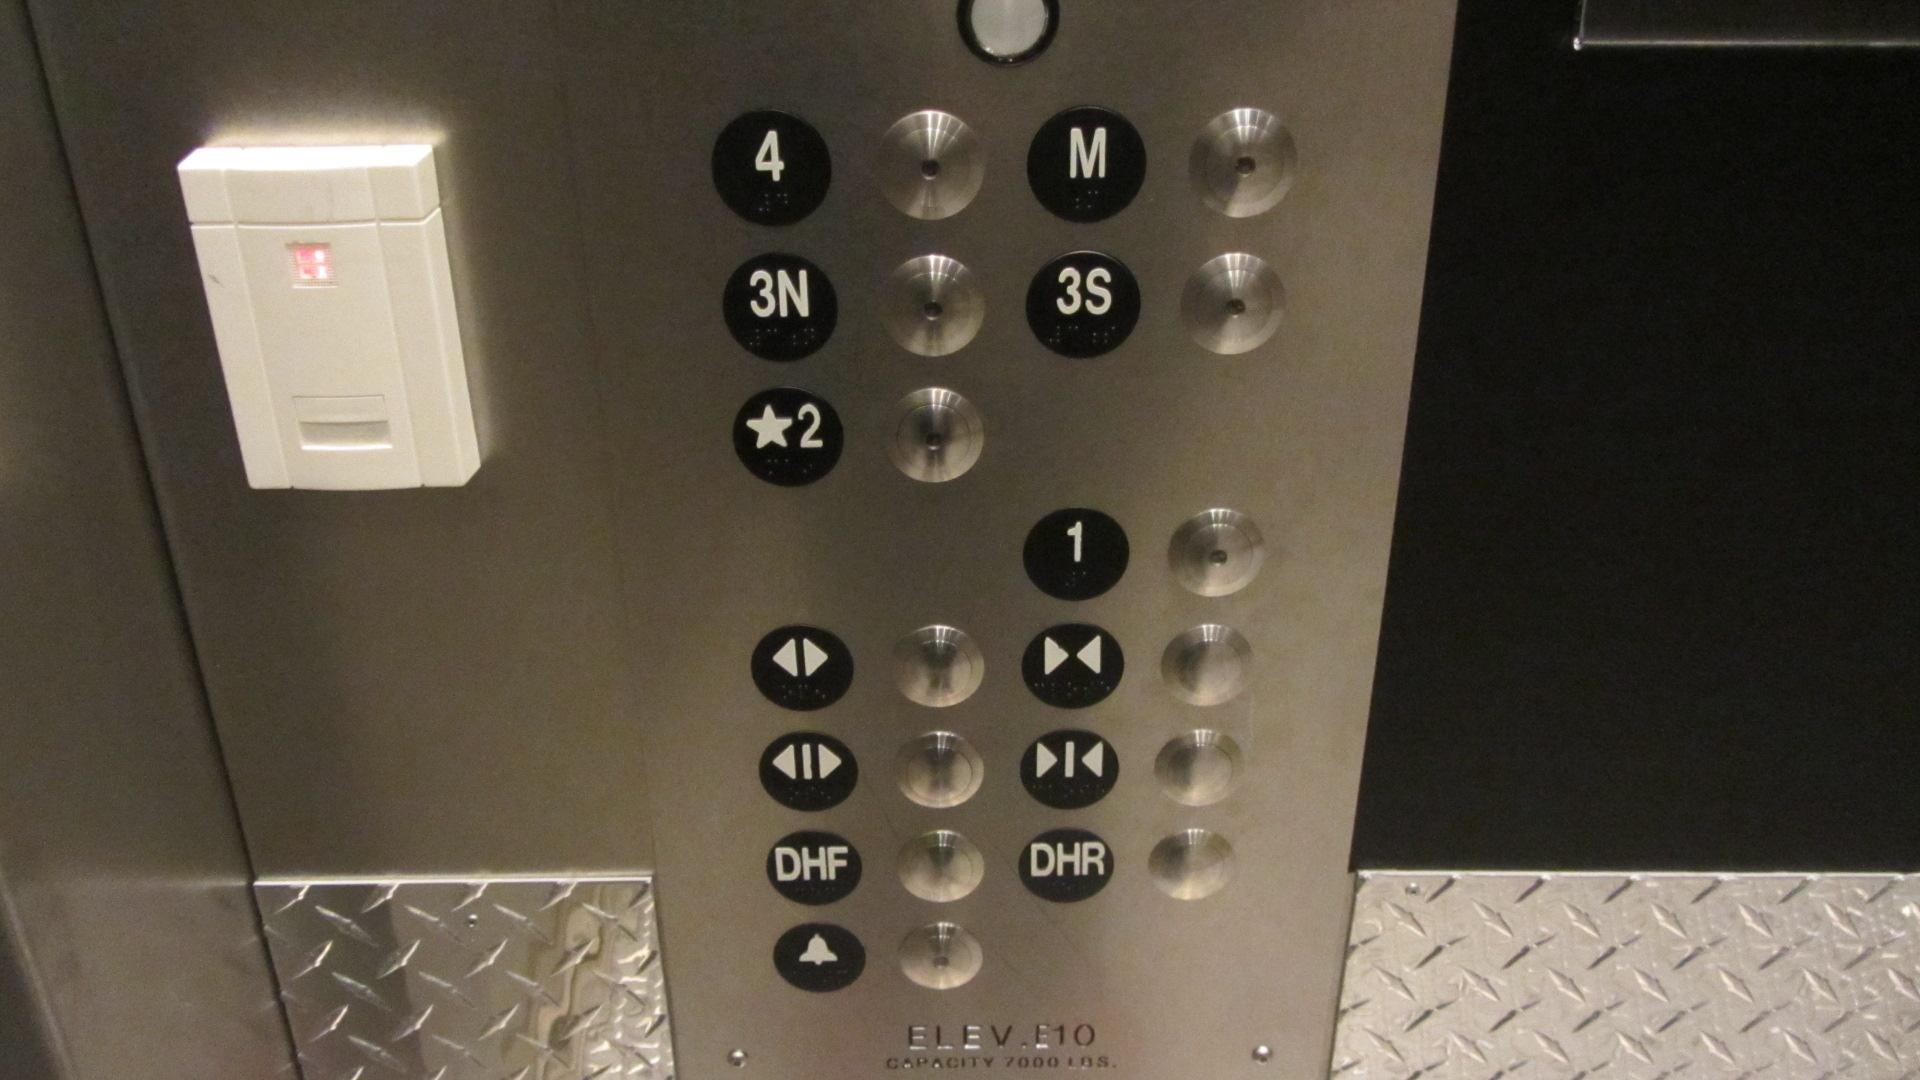1: (1017, 500, 1131, 605)
3N: (717, 247, 843, 365)
3S: (1023, 247, 1147, 364)
4: (704, 103, 836, 229)
DHF: (762, 823, 866, 909)
DHR: (1014, 822, 1120, 907)
M: (1021, 100, 1153, 225)
alarm: (767, 913, 872, 1000)
close: (1015, 613, 1129, 715), (1014, 723, 1124, 814)
empty: (861, 105, 989, 225), (1185, 102, 1302, 222), (872, 251, 992, 363), (880, 378, 992, 489), (1180, 249, 1291, 357), (886, 618, 988, 711), (1166, 505, 1265, 599), (890, 724, 989, 814), (1142, 825, 1238, 906), (1151, 728, 1247, 808), (894, 825, 990, 905), (895, 916, 992, 996), (1156, 622, 1253, 702)
open: (753, 725, 862, 816), (746, 621, 856, 712)
s2: (725, 378, 852, 493)
